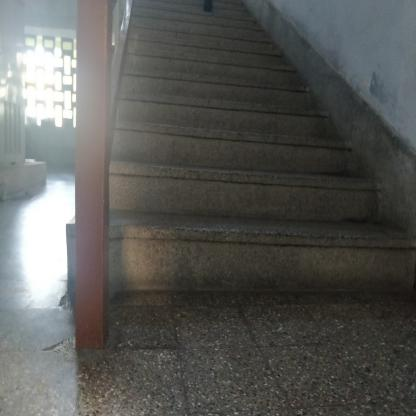stairs: (118, 108, 341, 309)
